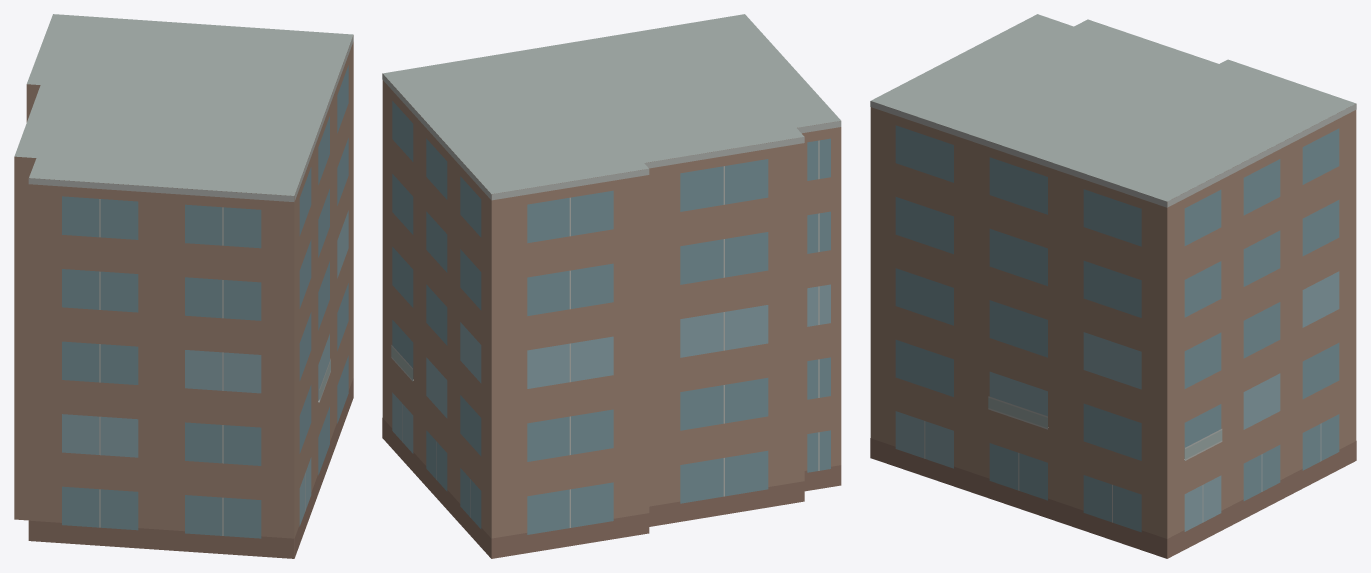
File: survey-upis-33006722.glb
The picture shows the model from 3 angles, left to right: view 1: azimuth 30°, elevation 25°; view 2: azimuth 150°, elevation 25°; view 3: azimuth 270°, elevation 25°; orthographic projection. The views are drawn at different scales.
Visible parts, largest first — view 1: survey-upis-33006722.tmp; view 2: survey-upis-33006722.tmp; view 3: survey-upis-33006722.tmp.
Boxes of the visible parts, box(x1,y1,x2,y2) form: survey-upis-33006722.tmp: box(14, 14, 353, 558); survey-upis-33006722.tmp: box(382, 14, 841, 558); survey-upis-33006722.tmp: box(870, 14, 1356, 558).
Bounding box in the file's own units: 16.12 × 14.3 × 17.64.
